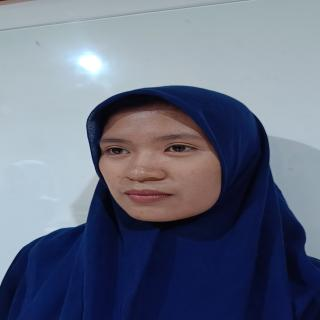Netral: (90, 103, 245, 228)
